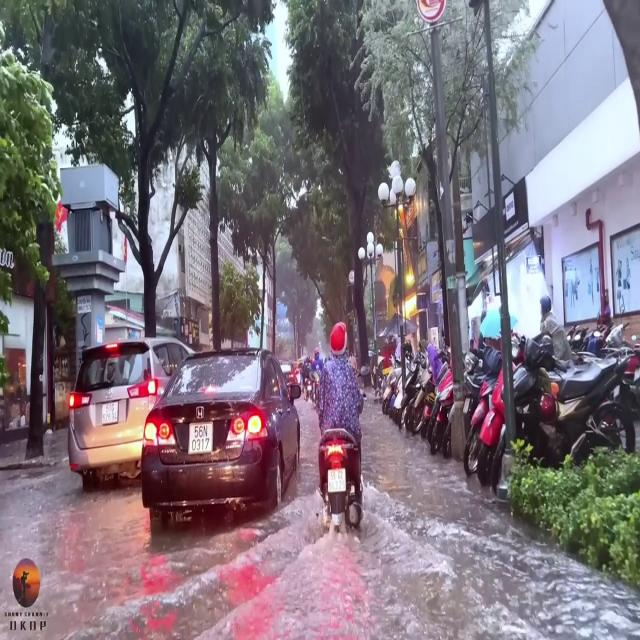bien_trang: (190, 419, 212, 451), (326, 468, 346, 490), (102, 404, 118, 426)
